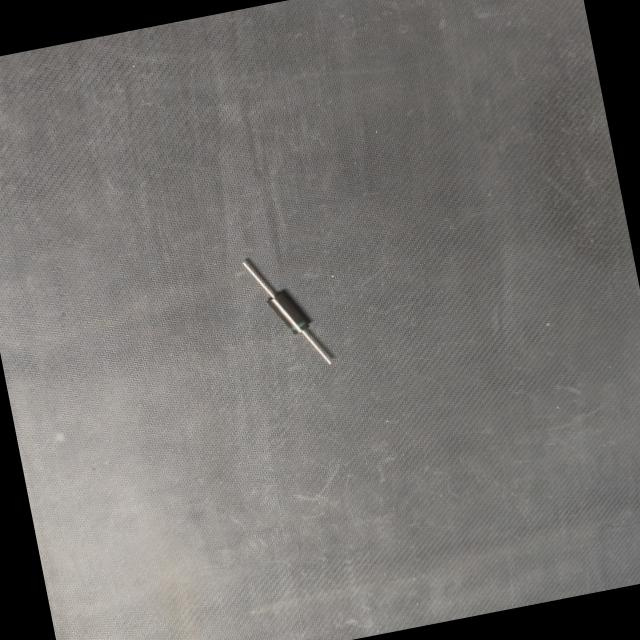resistor: (221, 230, 360, 400)
